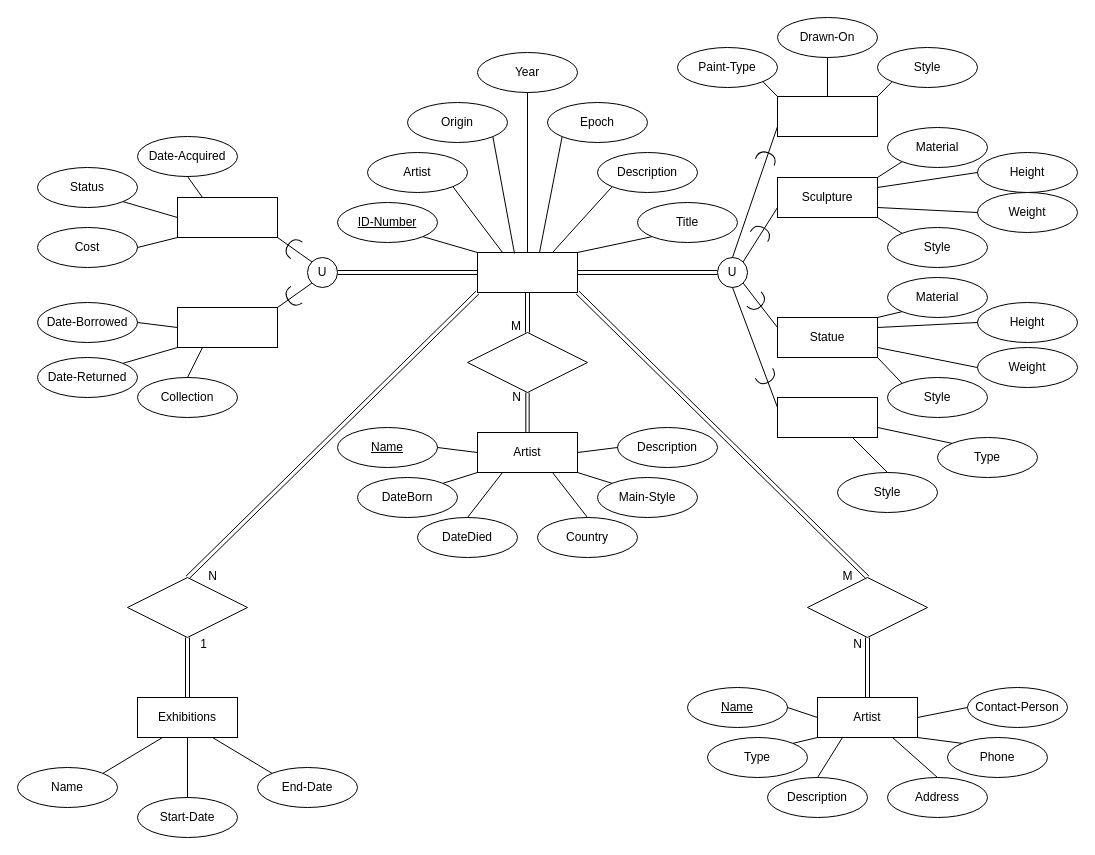
The diagram is 1095 pixels wide and 855 high, and some of its shapes have lost their labels. The box of each missing label's shape, as (x1, y1, x2, y2) in pixels:
Art-Object: (476, 252, 578, 292)
Borrowed: (176, 306, 278, 348)
Displays: (126, 576, 248, 638)
Draws: (466, 332, 588, 392)
Have: (806, 576, 928, 638)
Other: (776, 396, 878, 438)
Painting: (776, 96, 878, 136)
Permanent: (176, 196, 278, 238)
